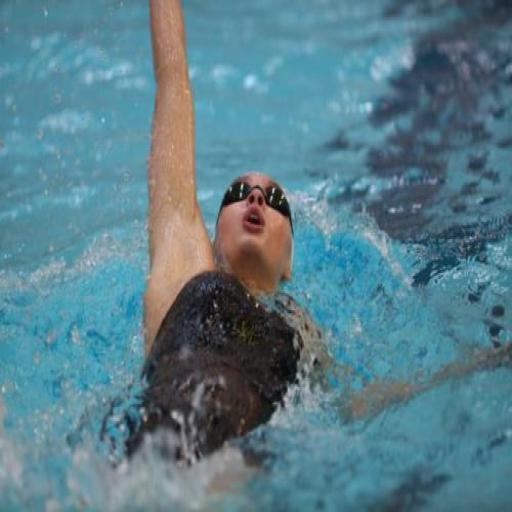swimming: (100, 0, 511, 503)
